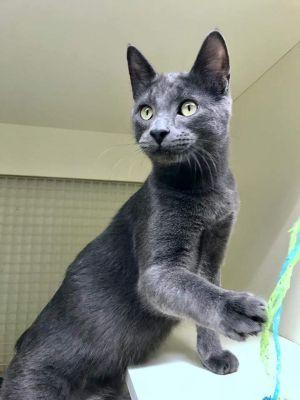rblue: (119, 28, 247, 179)
